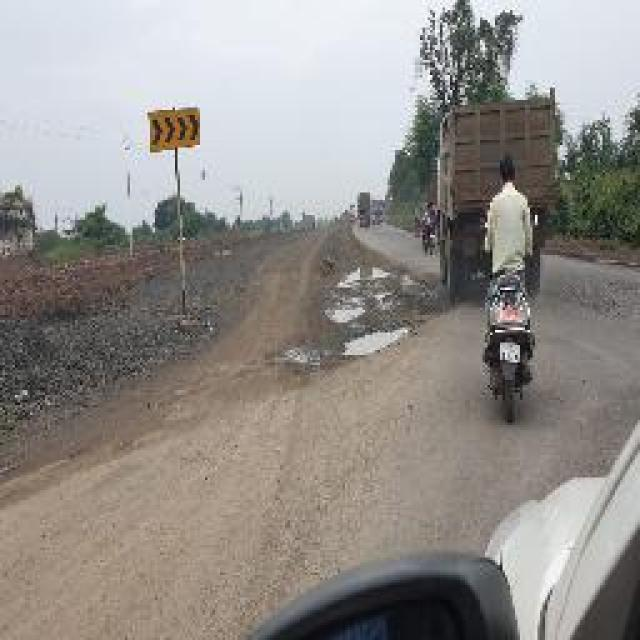waterlogging: (339, 310, 418, 364), (323, 253, 393, 295)
